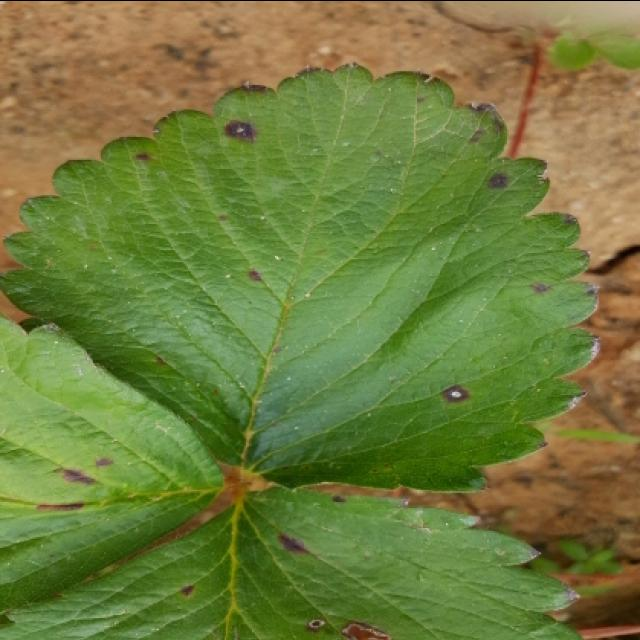Leaf Spot: (0, 60, 602, 491), (0, 484, 585, 640), (0, 315, 226, 631)
